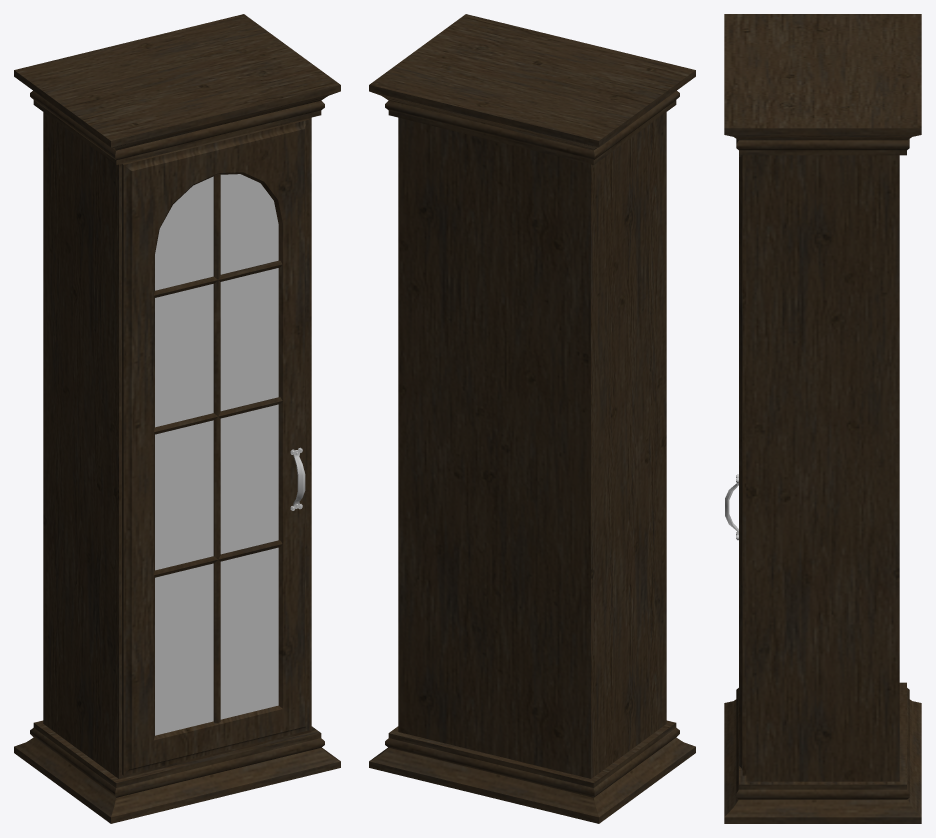
Rendered from display_cabinet_mp_1_3.fbx.
The picture shows the model from 3 angles, left to right: view 1: azimuth 30°, elevation 25°; view 2: azimuth 150°, elevation 25°; view 3: azimuth 270°, elevation 25°; orthographic projection.
Parts seen in each view (by area): view 1: display_cabinet_mp_1_3_door, display_cabinet_mp_1_3; view 2: display_cabinet_mp_1_3; view 3: display_cabinet_mp_1_3, display_cabinet_mp_1_3_door.
Boxes of the visible parts, bbox=[...] form: display_cabinet_mp_1_3_door: bbox=[122, 118, 309, 775]; display_cabinet_mp_1_3: bbox=[14, 14, 340, 823]; display_cabinet_mp_1_3: bbox=[369, 14, 695, 823]; display_cabinet_mp_1_3: bbox=[724, 14, 921, 823]; display_cabinet_mp_1_3_door: bbox=[725, 155, 746, 775].
Bounding box in the file's own units: 0.74 × 2.1 × 0.54.
